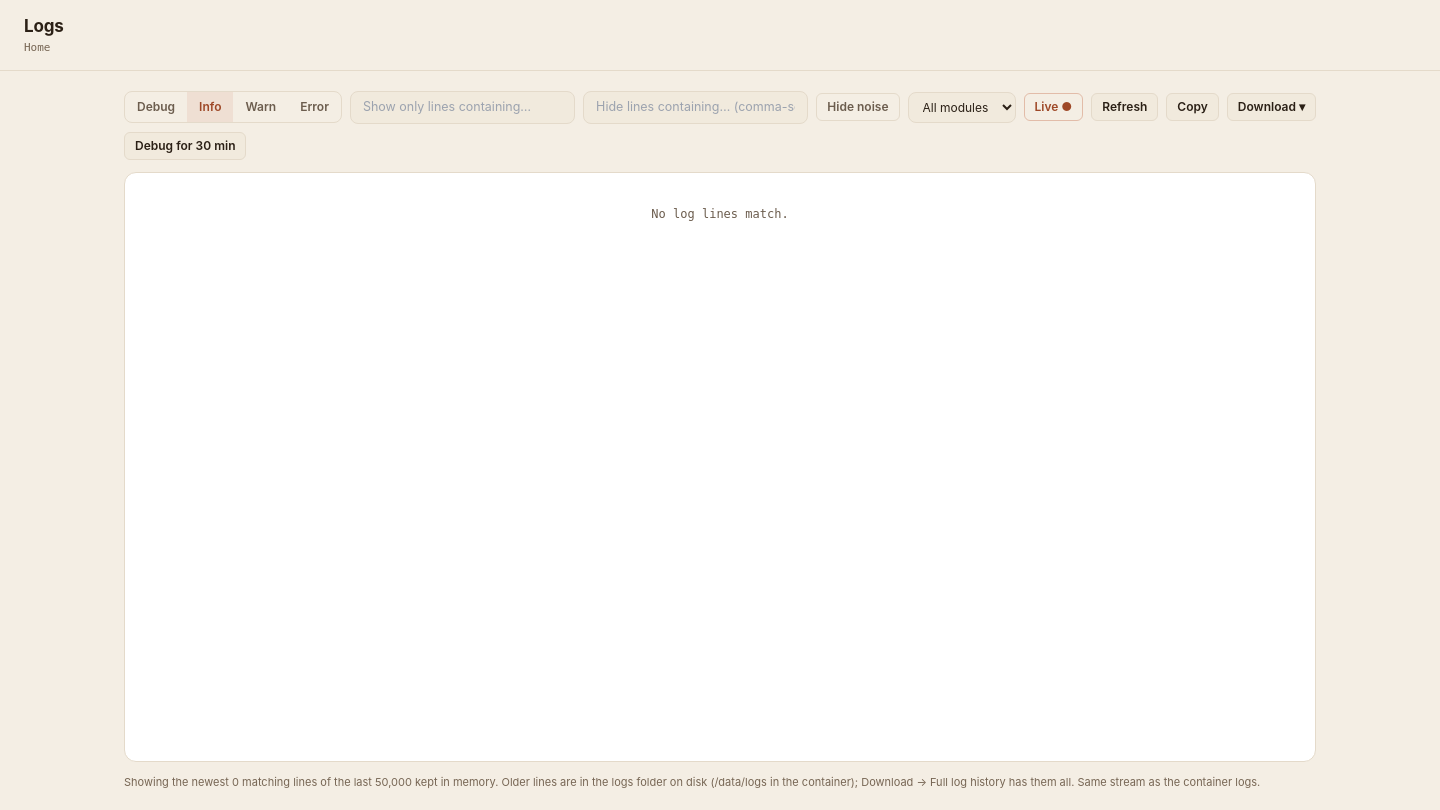
Test case: Logs › turns debug on for 30 minutes and offers the way back
This screenshot has width=1440, height=810.
Click the button "Debug for 30 min": (185, 146) [124,132,246,160]
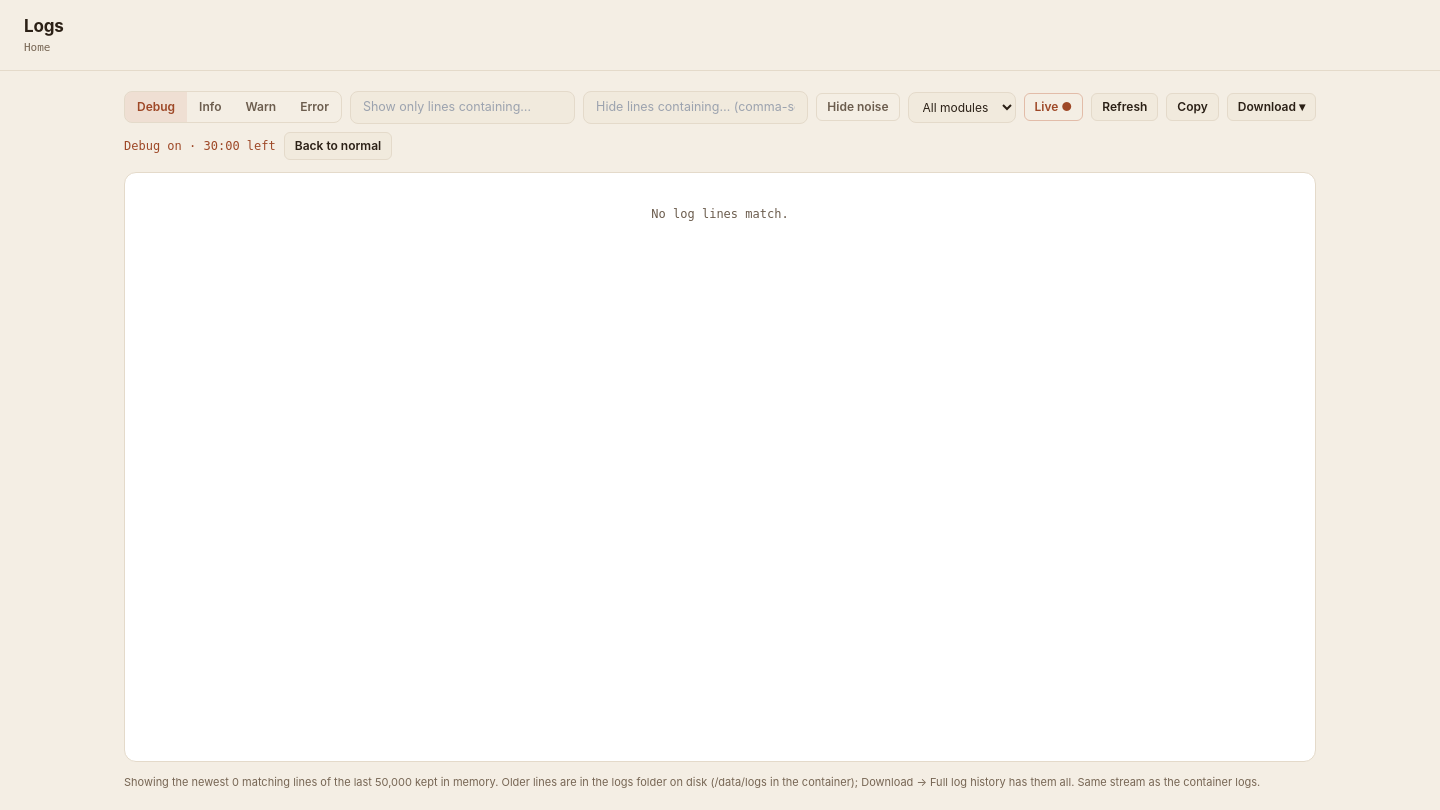
Now the text "Debug on · 30:00 left" is shown, box [124,137,276,155]
Now the button "Back to normal" is shown, box [284,132,392,160]
